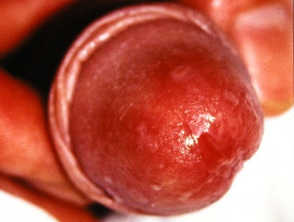SJS-TEN: (72, 37, 287, 222)
